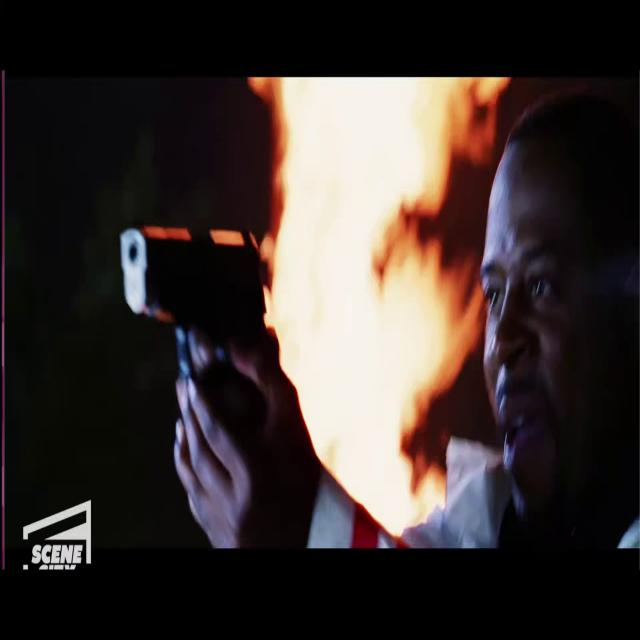weapons: (114, 203, 282, 474)
